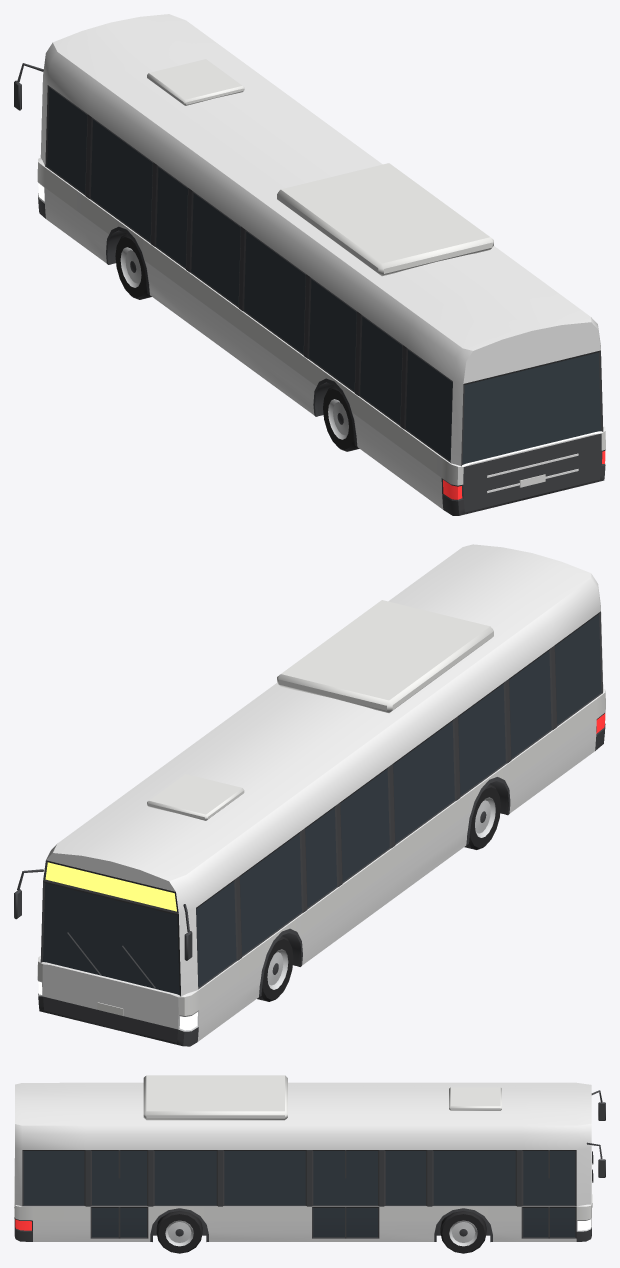
File: Autobus.fbx
3 views of the same model, one above another, from view 1: azimuth 30°, elevation 25°; view 2: azimuth 150°, elevation 25°; view 3: azimuth 270°, elevation 25° (orthographic). The views are drawn at different scales.
Parts seen in each view (by area): view 1: Body, Wheel_RL, Wheel_FL; view 2: Body, Wheel_FL, Wheel_RL; view 3: Body, Wheel_RR, Wheel_FR.
Boxes of the visible parts, x1=… form: Body: x1=14, y1=14, x2=605, y2=515; Wheel_RL: x1=323, y1=386, x2=359, y2=451; Wheel_FL: x1=115, y1=234, x2=151, y2=299; Body: x1=14, y1=544, x2=605, y2=1046; Wheel_FL: x1=257, y1=936, x2=293, y2=1001; Wheel_RL: x1=464, y1=784, x2=500, y2=849; Body: x1=14, y1=1075, x2=605, y2=1241; Wheel_RR: x1=156, y1=1210, x2=202, y2=1253; Wheel_FR: x1=440, y1=1211, x2=486, y2=1253.
Size of what is drawn, in the model's own units: 2.86 by 3.13 by 12.3.
